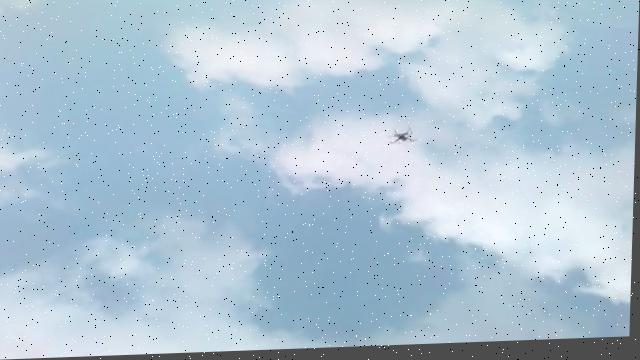drone: (385, 130, 422, 153)
